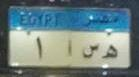1: (34, 34, 44, 61)
alif: (66, 37, 75, 57)
haa: (101, 41, 119, 62)
seen: (80, 40, 100, 60)
